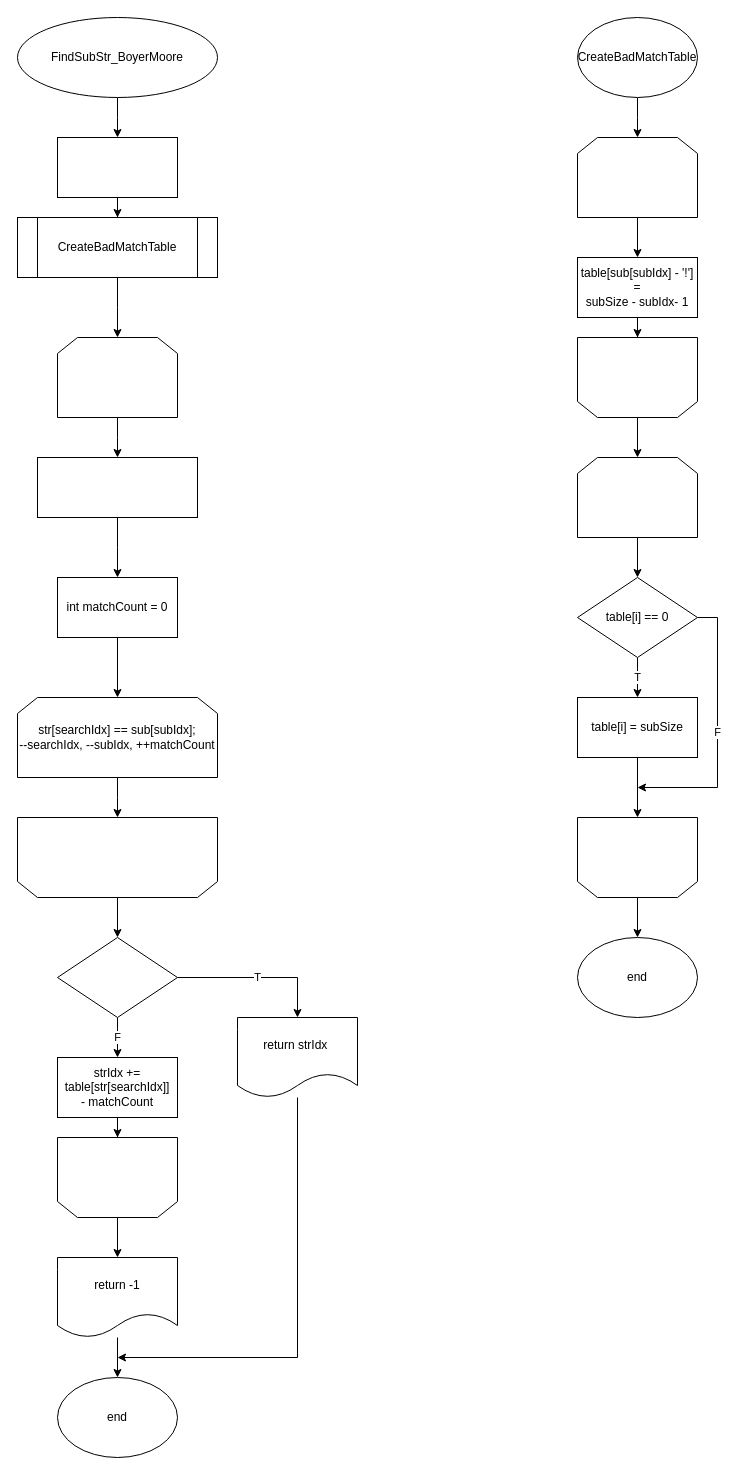
The diagram is 743 pixels wide and 1475 high, and some of its shapes have lost their labels. Here are the shapes that lost their labels. From the top down, the centre of each, then its label:
At point (117, 167): "int badMatchTable[93] = {0,}".
At point (637, 177): "int subIdx= 0; subIdx < subSize - 1; ++subIdx".
At point (117, 377): "int strIdx = 0; str[strIdx] != '\0';".
At point (117, 487): "subIdx = subSize - 1 searchIdx = subIdx + strIdx".
At point (637, 497): "int i = 0; i < tableSize; ++i".
At point (117, 977): "subIdx == -1".
